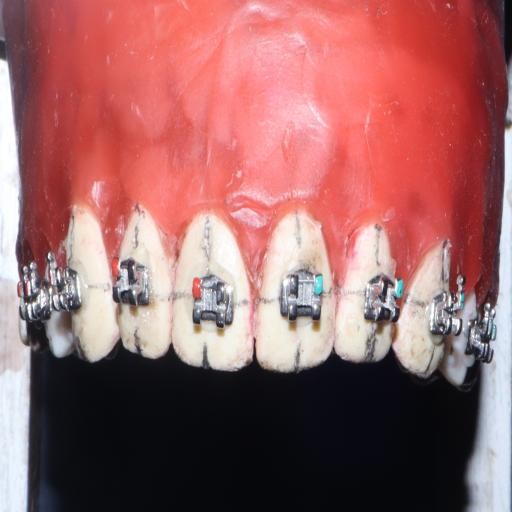correct_brace: (276, 262, 327, 331)
incorrect_brace: (188, 268, 236, 332)
